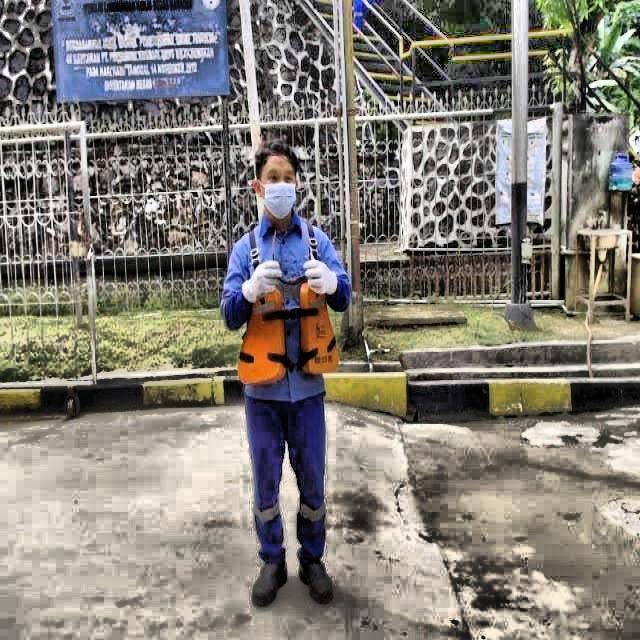safety_jacket: (238, 286, 339, 382)
